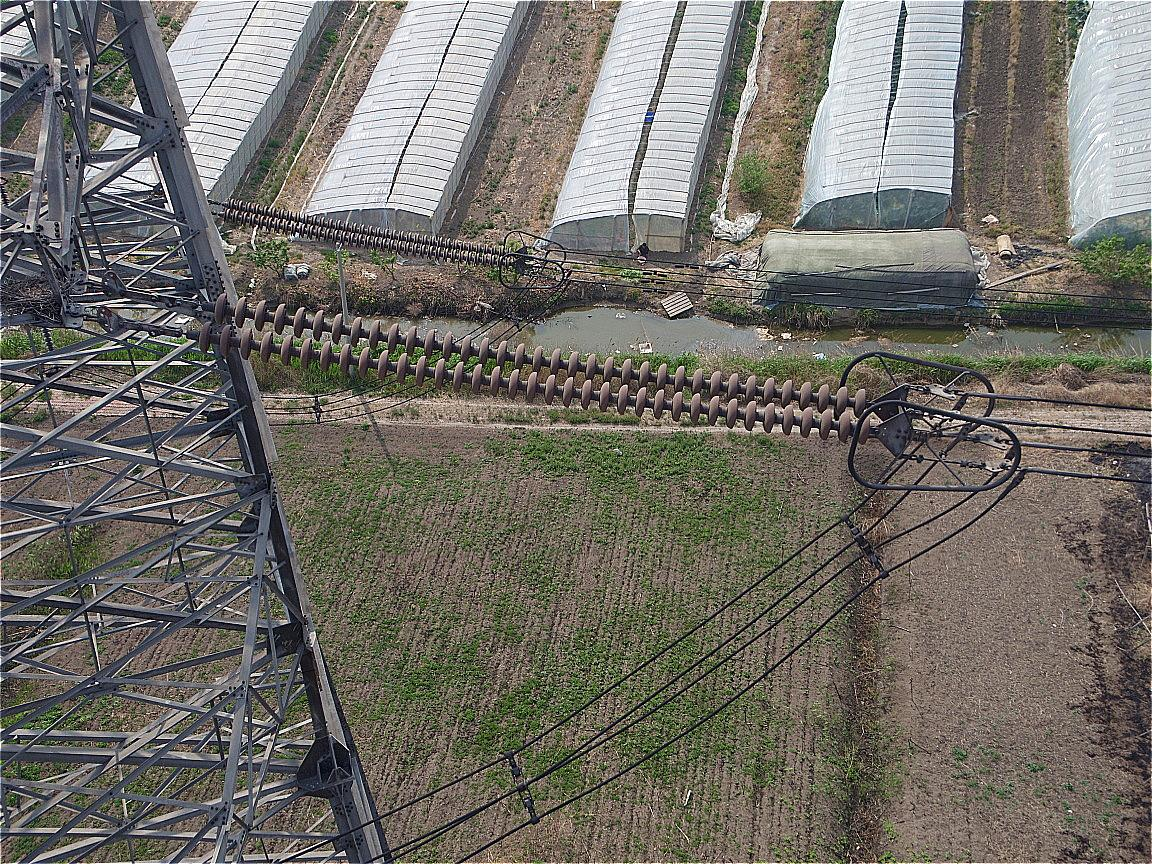insultor1: (181, 278, 888, 458)
insultor2: (214, 182, 515, 272)
